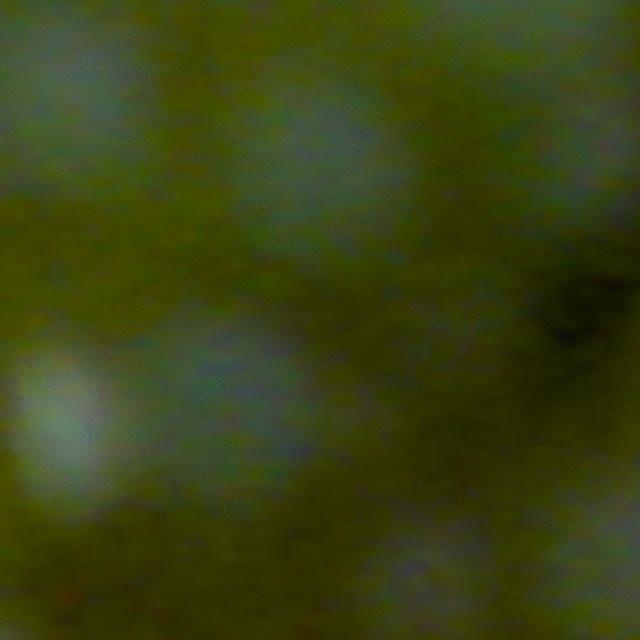SeaGrape: (114, 275, 377, 533), (193, 37, 426, 284), (0, 0, 210, 229), (465, 63, 633, 233)
